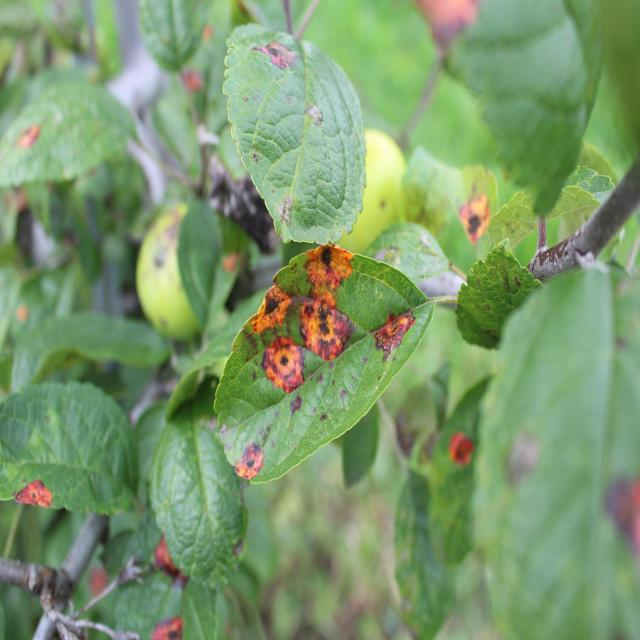Rust: (298, 292, 349, 369), (300, 235, 363, 290), (262, 338, 316, 398), (371, 302, 423, 362), (250, 30, 304, 81), (249, 278, 290, 336), (458, 178, 494, 243), (10, 474, 60, 520), (235, 435, 270, 487), (451, 420, 477, 480), (153, 609, 183, 639)
